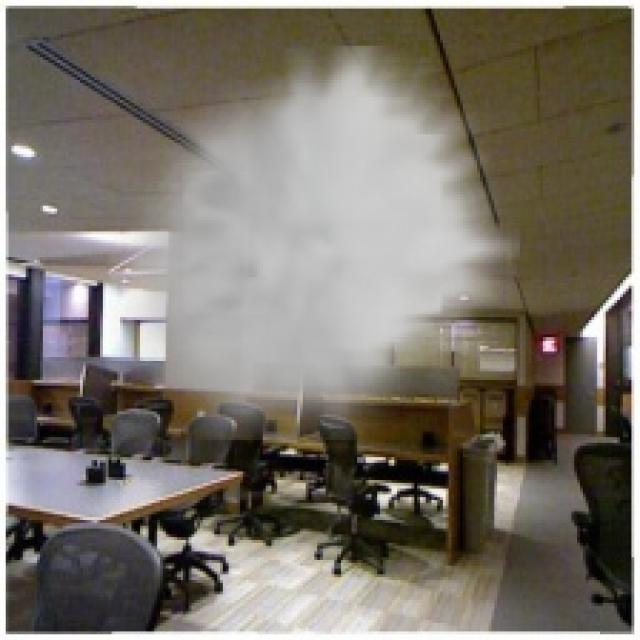smoke: (109, 46, 520, 440)
